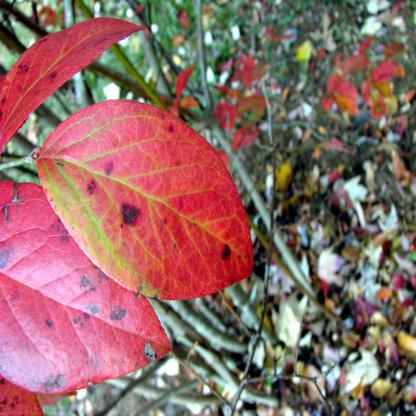blueberry leaf: (34, 96, 261, 303), (0, 183, 179, 387), (0, 15, 149, 129)
